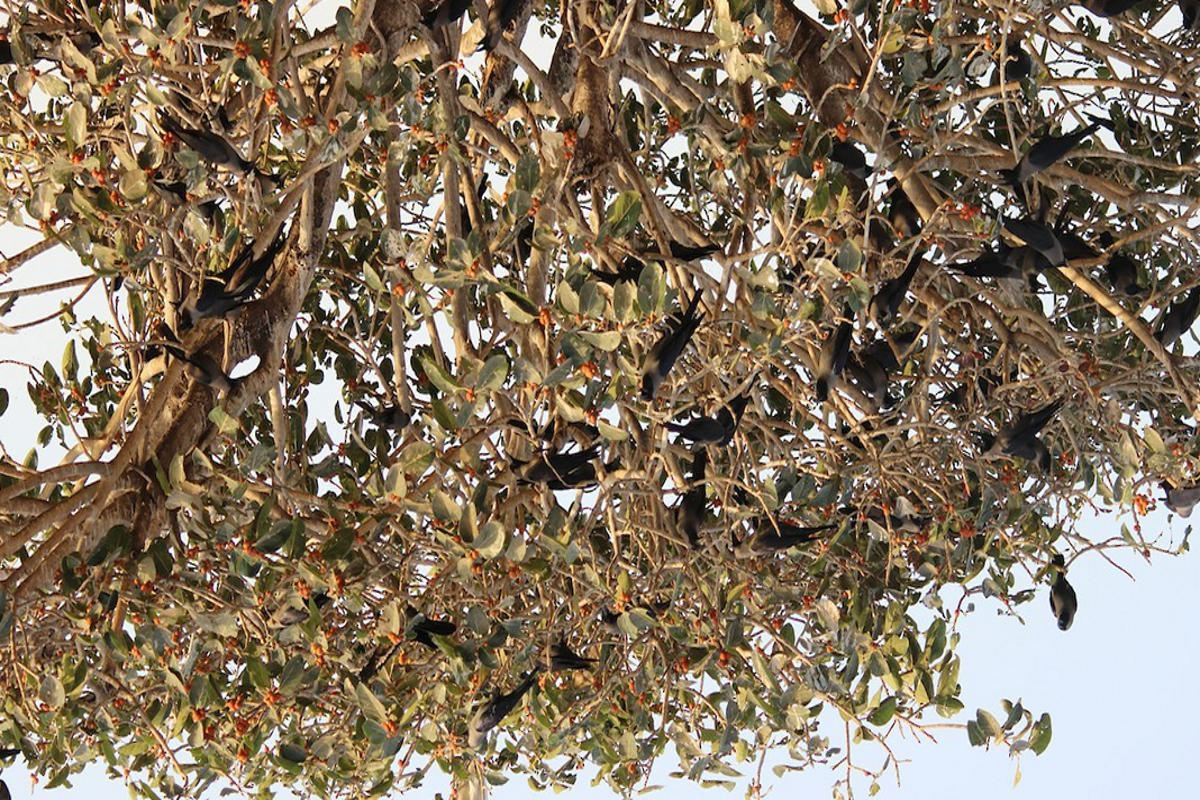crow: (153, 110, 269, 185), (975, 387, 1068, 480), (634, 291, 703, 407), (986, 126, 1094, 188), (499, 436, 598, 492), (724, 513, 835, 562), (866, 251, 927, 337), (1144, 270, 1200, 350), (469, 674, 538, 737), (1041, 545, 1081, 637), (814, 298, 846, 400)
